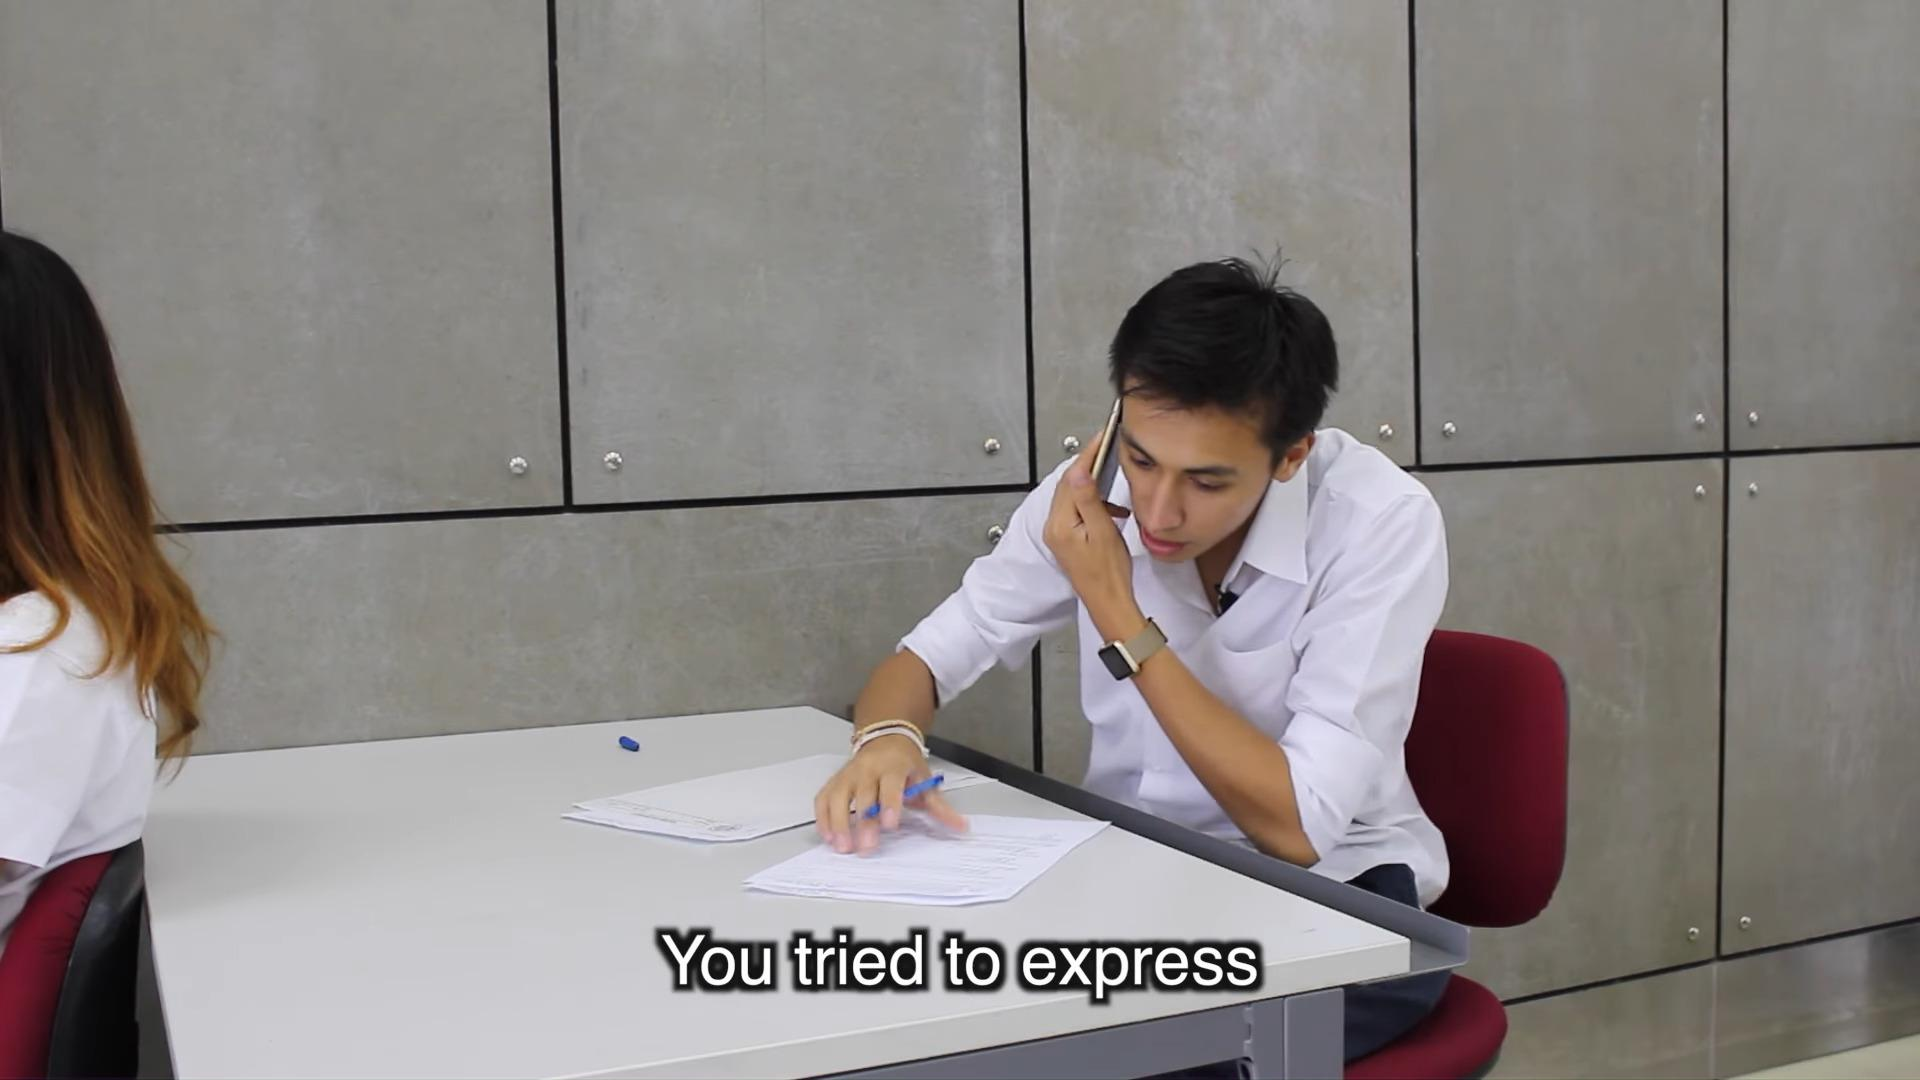cheating: (530, 215, 1470, 919)
